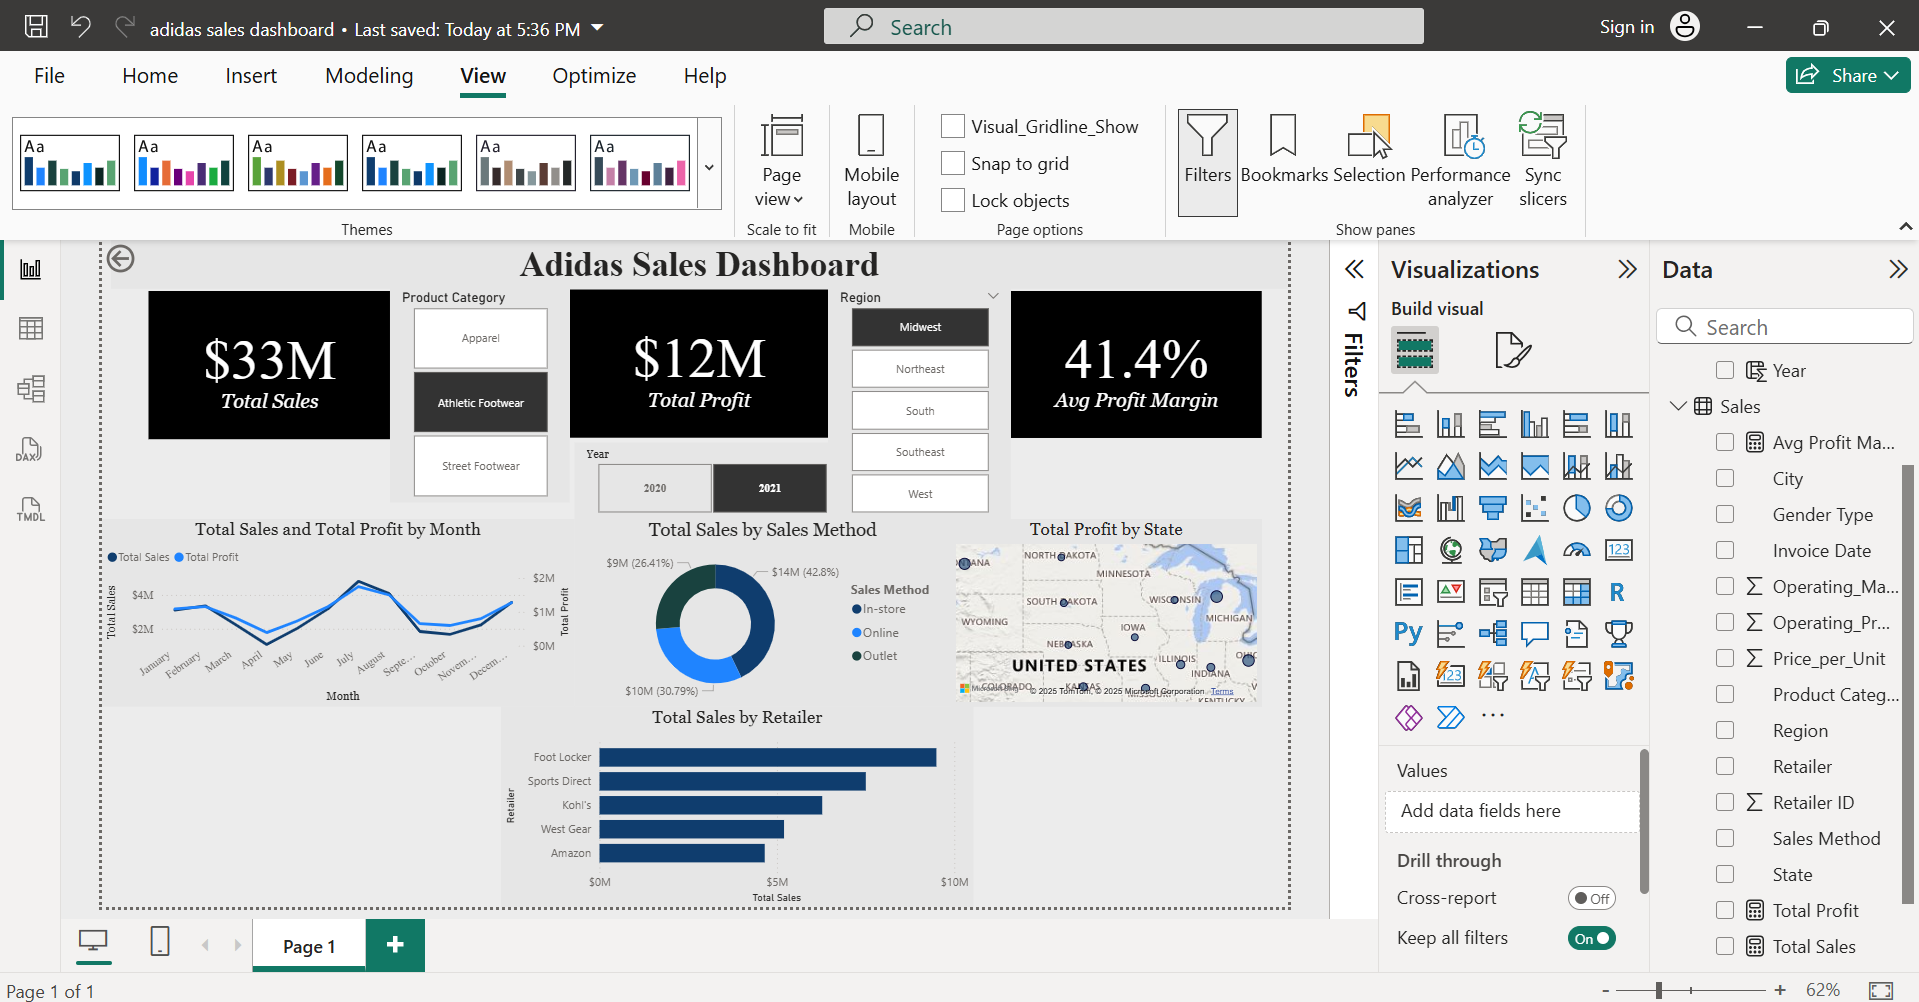

The page's visual inventory and layout, read from the dashboard file:
{"tool":"powerbi","page":{"name":"Page 1","canvas":[1280,720],"ordinal":0},"visuals":[{"type":"textbox","box":[9.4,0,1269.9,52.9],"z":0},{"type":"card","fields":{"Values":["Sales.Total Sales"]},"box":[50.2,55.1,260.7,160.3],"z":1},{"type":"card","fields":{"Values":["Sales.Total Profit"]},"box":[505.2,53.4,278.5,160.3],"z":2},{"type":"card","fields":{"Values":["Sales.Avg Profit Margin"]},"box":[981.3,55.1,270.4,158.7],"z":3},{"type":"slicer","fields":{"Values":["Dates.Year"]},"box":[510.1,218.6,296.3,82.6],"z":4},{"type":"slicer","fields":{"Values":["Sales.Region"]},"box":[783.7,48.6,197.5,252.6],"z":5},{"type":"actionButton","box":[0,0,100,40],"z":6},{"type":"slicer","fields":{"Values":["Sales.Product Category"]},"box":[310.9,48.6,194.3,234.8],"z":7},{"type":"lineChart","fields":{"Category":["Dates.Month"],"Y":["Sales.Total Sales"],"Y2":["Sales.Total Profit"]},"box":[0,301.2,510.1,202.4],"z":8},{"type":"donutChart","fields":{"Category":["Sales.Sales Method"],"Y":["Sales.Total Sales"]},"box":[510.1,301.2,406.4,202.4],"z":9},{"type":"map","fields":{"Category":["Sales.State"],"Size":["Sales.Total Profit"]},"box":[916.5,301.2,335.2,202.4],"z":10},{"type":"barChart","fields":{"Category":["Sales.Retailer"],"Y":["Sales.Total Sales"]},"box":[430.7,503.6,510.1,217],"z":11}]}

Visuals, with their boxes on the page's 1280x720 design canvas (x1, y1, x2, y2). These are canvas units, not pixel positions in the 1919x1002 screenshot, which may show the page scaled, cropped or inside an application window:
textbox: [left=9, top=0, right=1279, bottom=53]
card - Sales.Total Sales: [left=50, top=55, right=311, bottom=215]
card - Sales.Total Profit: [left=505, top=53, right=784, bottom=214]
card - Sales.Avg Profit Margin: [left=981, top=55, right=1252, bottom=214]
slicer - Dates.Year: [left=510, top=219, right=806, bottom=301]
slicer - Sales.Region: [left=784, top=49, right=981, bottom=301]
actionButton: [left=0, top=0, right=100, bottom=40]
slicer - Sales.Product Category: [left=311, top=49, right=505, bottom=283]
lineChart - Dates.Month x Sales.Total Sales: [left=0, top=301, right=510, bottom=504]
donutChart - Sales.Sales Method x Sales.Total Sales: [left=510, top=301, right=916, bottom=504]
map - Sales.State x Sales.Total Profit: [left=916, top=301, right=1252, bottom=504]
barChart - Sales.Retailer x Sales.Total Sales: [left=431, top=504, right=941, bottom=721]
